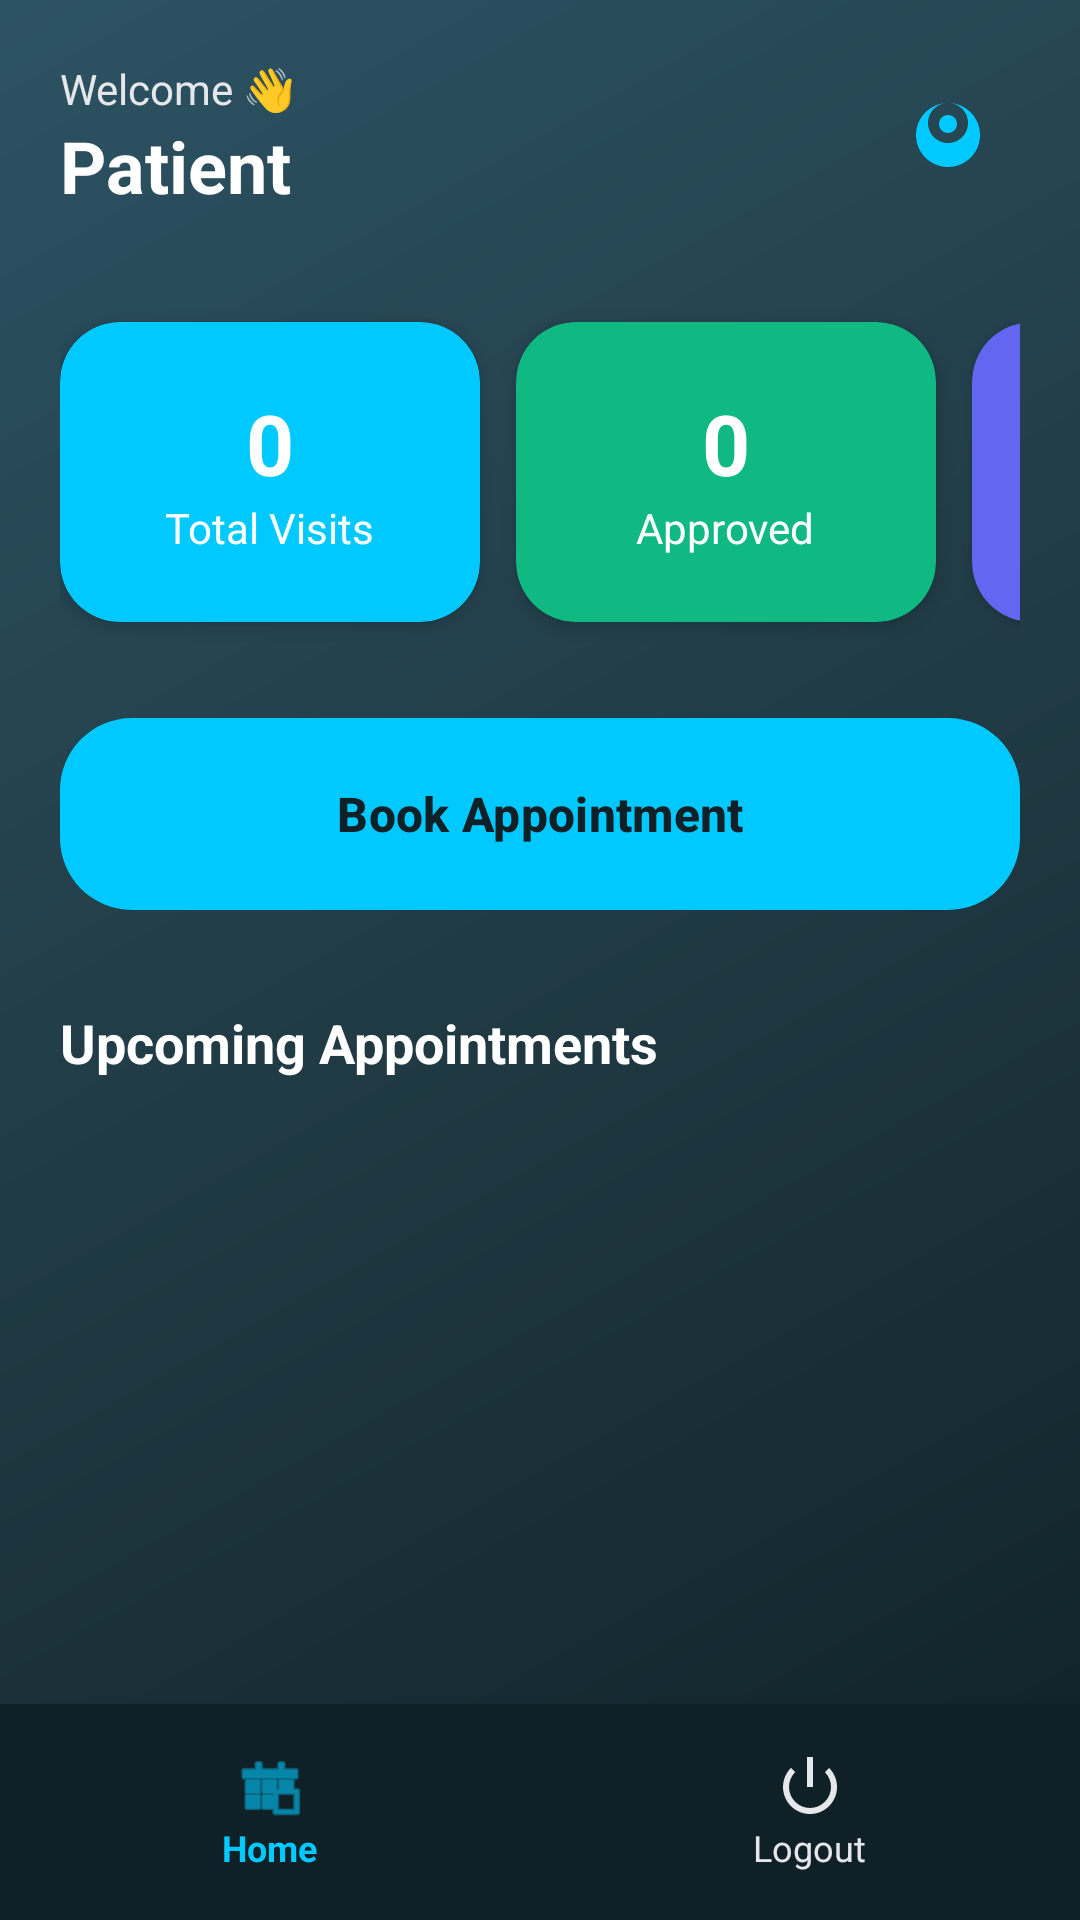

Point at icon controls on the screen. Image size 1080px x 1920px, points as [x,y].
lock power off: [810,1785]
person: [948,135]
today: [270,1788]
